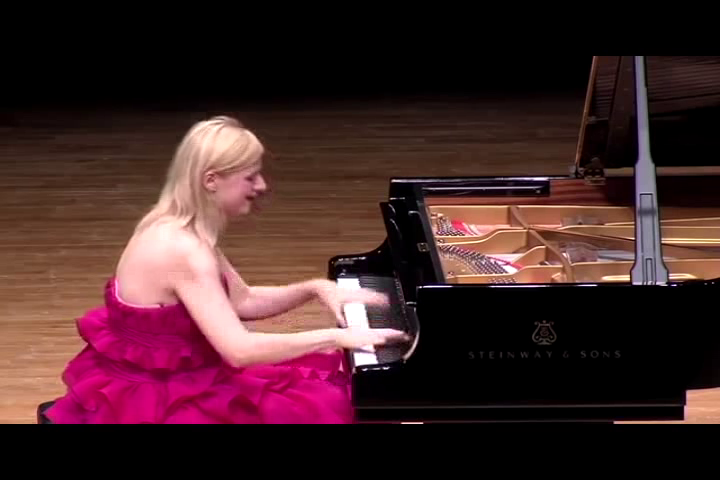keyboard: (333, 270, 411, 393)
